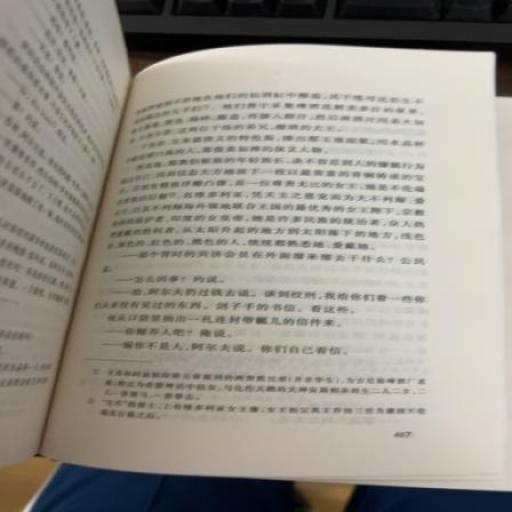paper: (127, 21, 512, 512)
